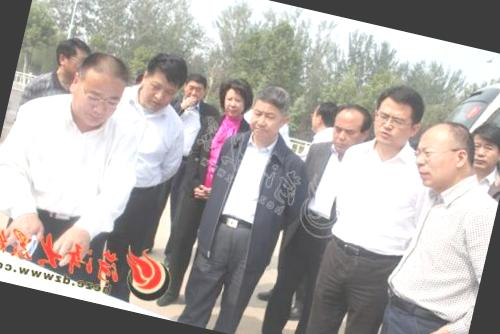no_helmet: (409, 113, 485, 198), (62, 42, 134, 128), (360, 73, 428, 156), (134, 44, 194, 118), (242, 84, 297, 146), (324, 97, 375, 154), (48, 31, 92, 88), (212, 72, 258, 124), (465, 115, 500, 181), (306, 97, 342, 138), (179, 69, 212, 112)
